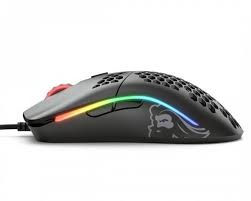mouse: (14, 67, 244, 156)
